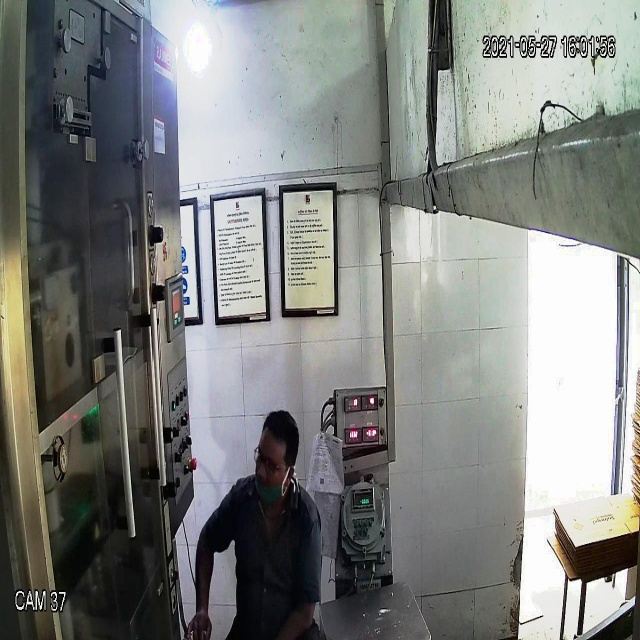Gafas: (248, 439, 289, 479)
